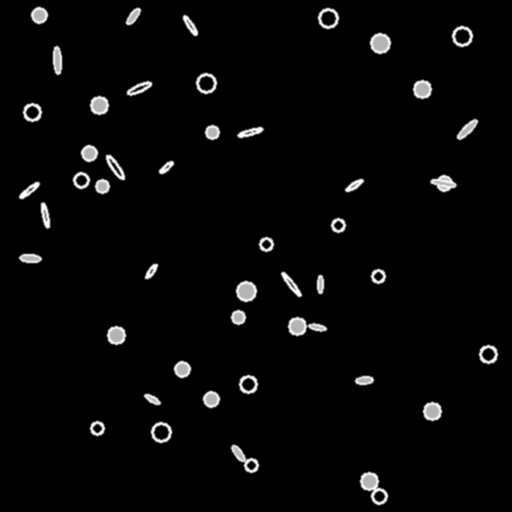pseudomonas: (280, 271, 302, 297), (105, 154, 125, 180), (456, 118, 478, 140), (126, 80, 152, 96), (18, 181, 40, 199), (182, 14, 198, 36), (125, 7, 141, 25), (238, 126, 262, 138), (230, 444, 246, 462), (430, 178, 456, 188), (40, 202, 50, 228), (345, 178, 363, 192), (53, 46, 61, 74), (144, 263, 158, 279), (158, 160, 174, 174), (143, 393, 161, 405), (20, 254, 40, 262), (355, 376, 373, 384), (309, 323, 325, 331), (317, 275, 323, 293)
synechocystis: (453, 27, 471, 45), (152, 423, 170, 441), (197, 74, 215, 92), (237, 282, 255, 300), (371, 34, 389, 52), (319, 9, 337, 27), (240, 376, 256, 392), (414, 81, 430, 97), (361, 473, 377, 489), (24, 104, 40, 120), (480, 346, 496, 362), (91, 97, 107, 113), (424, 403, 440, 419), (108, 327, 124, 343), (289, 318, 305, 334), (175, 362, 189, 376), (32, 8, 46, 22), (74, 173, 88, 187), (437, 176, 451, 190), (204, 392, 218, 406), (372, 489, 386, 503), (82, 146, 96, 160), (96, 180, 108, 192), (206, 126, 218, 138), (91, 422, 103, 434), (260, 238, 272, 250), (332, 219, 344, 231), (245, 459, 257, 471), (372, 270, 384, 282), (232, 311, 244, 323)
